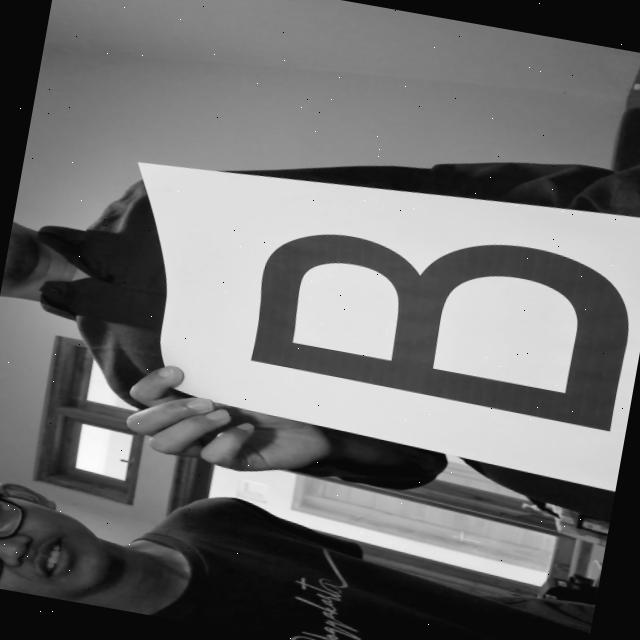b: (218, 182, 640, 443)
